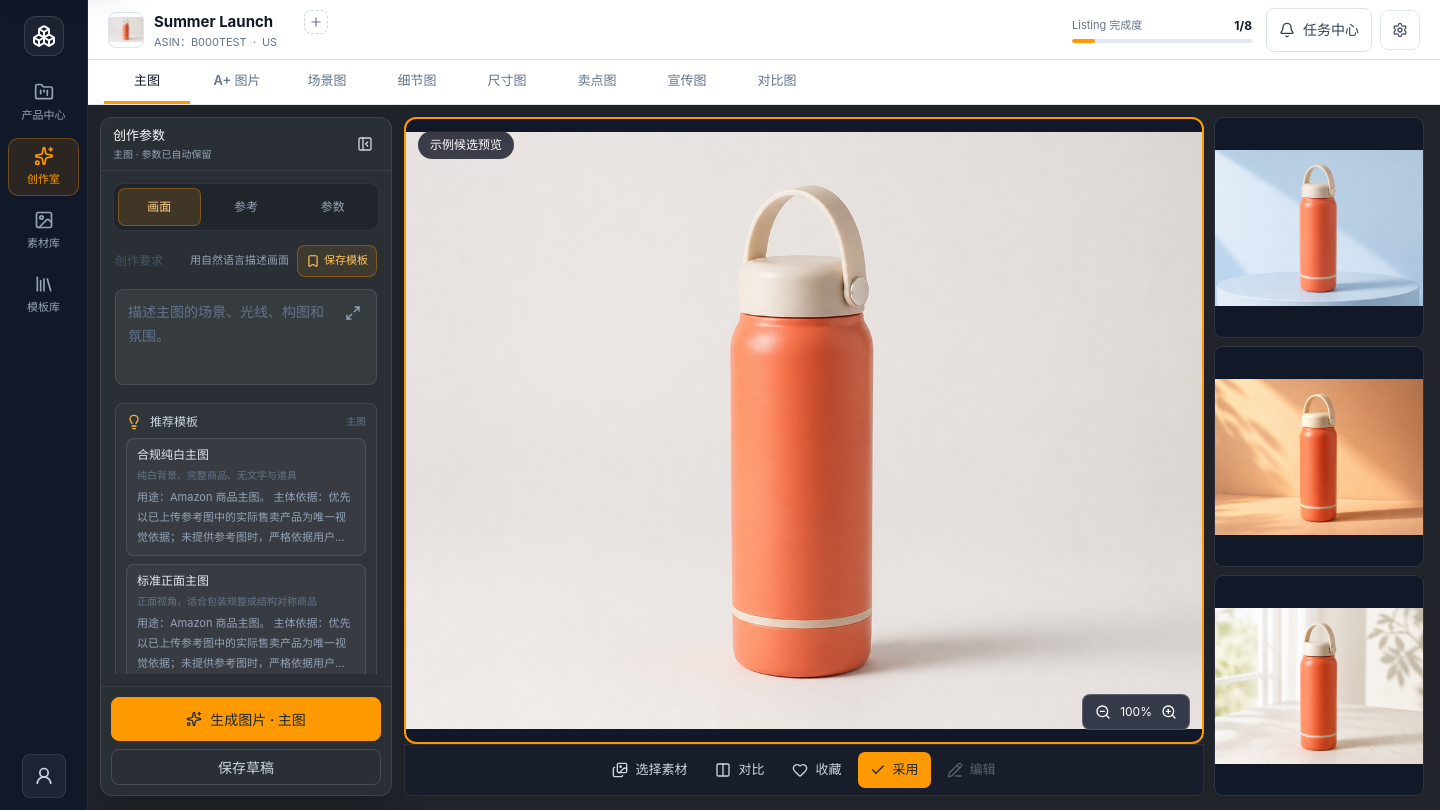
Test case: backend history asset source › favorites a generated history image and updates the history action after backend confirmation
This screenshot has width=1440, height=810.
Click the button "任务中心".
click(1319, 30)  # box [1266,8,1372,52]
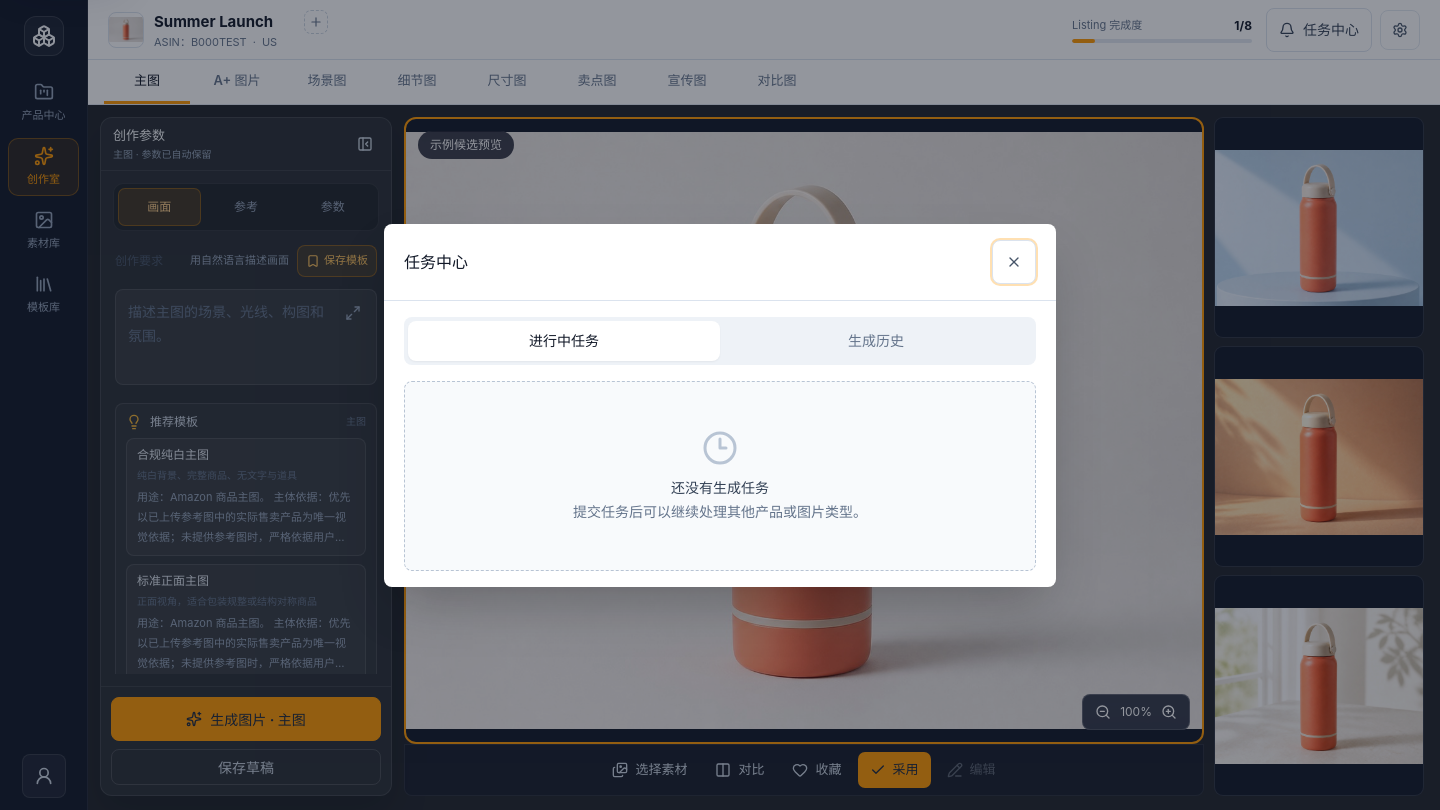
Click the tab "生成历史".
click(876, 340)  # box [720,320,1032,360]
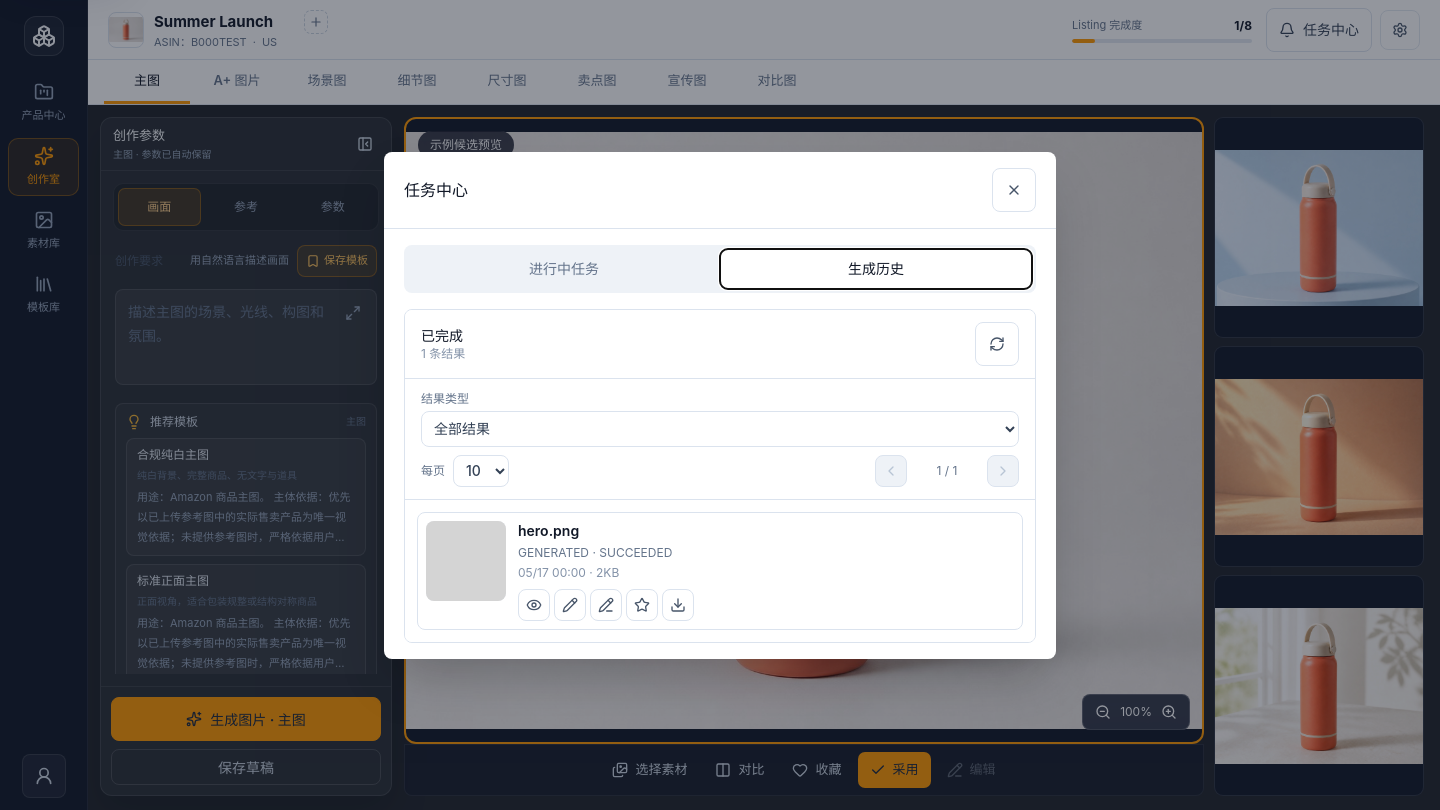
Expected: the element named "图片生成历史" is shown, [404,308,1036,642]
Click the button named "收藏 hero.png".
click(642, 604)  # box [626,588,658,620]
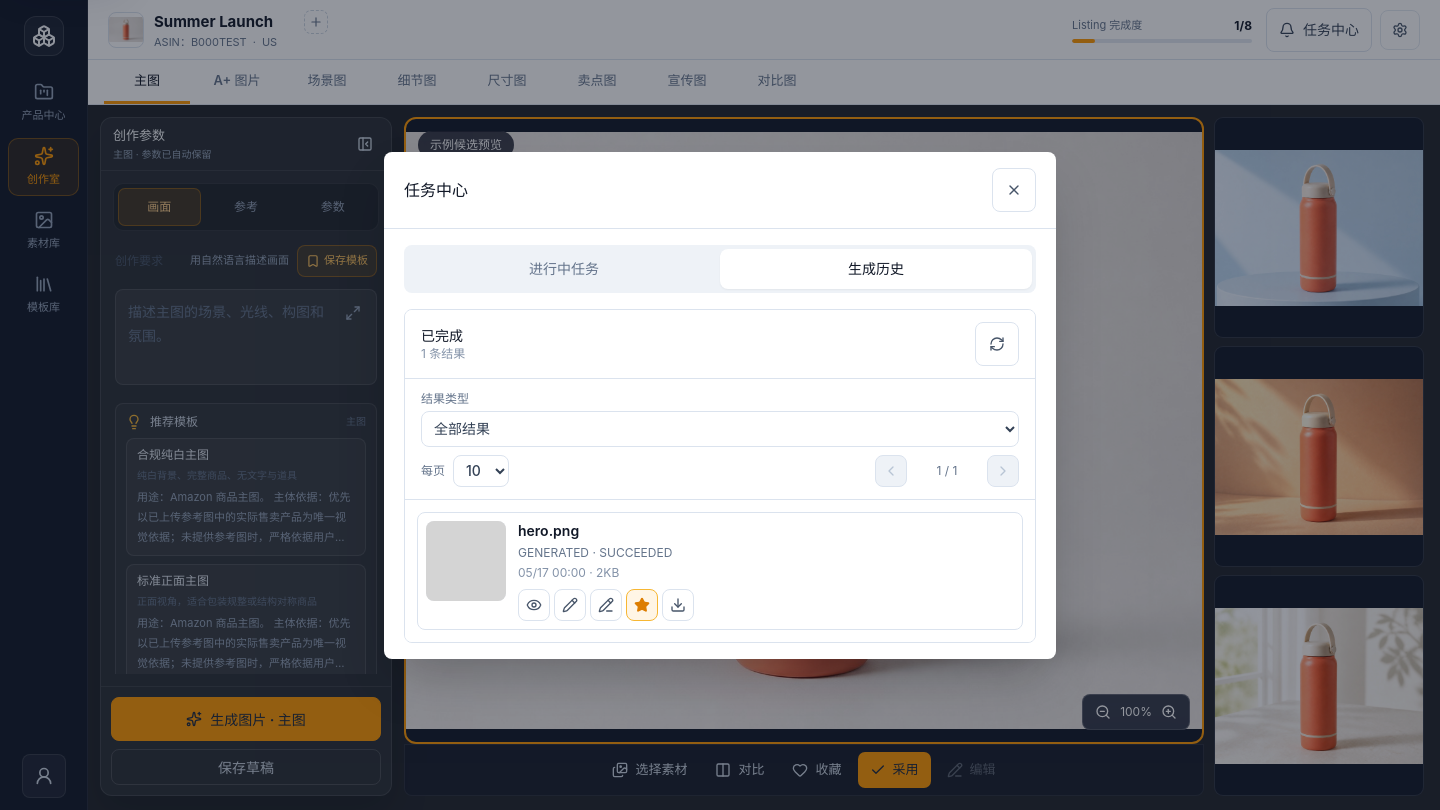
Expected: the button named "取消收藏 hero.png" is shown, [626,588,658,620]
